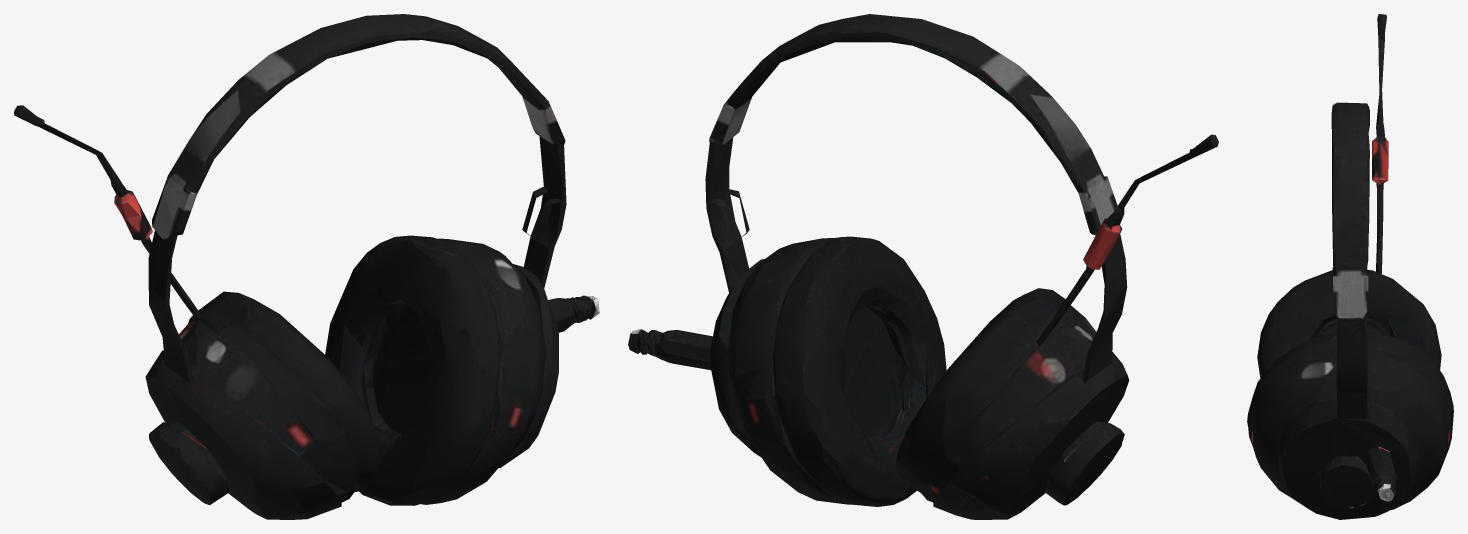
The model's file is headset.glb.
3 renders of one model, left to right at view 1: azimuth 30°, elevation 25°; view 2: azimuth 150°, elevation 25°; view 3: azimuth 270°, elevation 25°, orthographic. The views are drawn at different scales.
Size of the model in its own units: 1.9 by 1.5 by 0.7564.
1 material, 1 textured.
